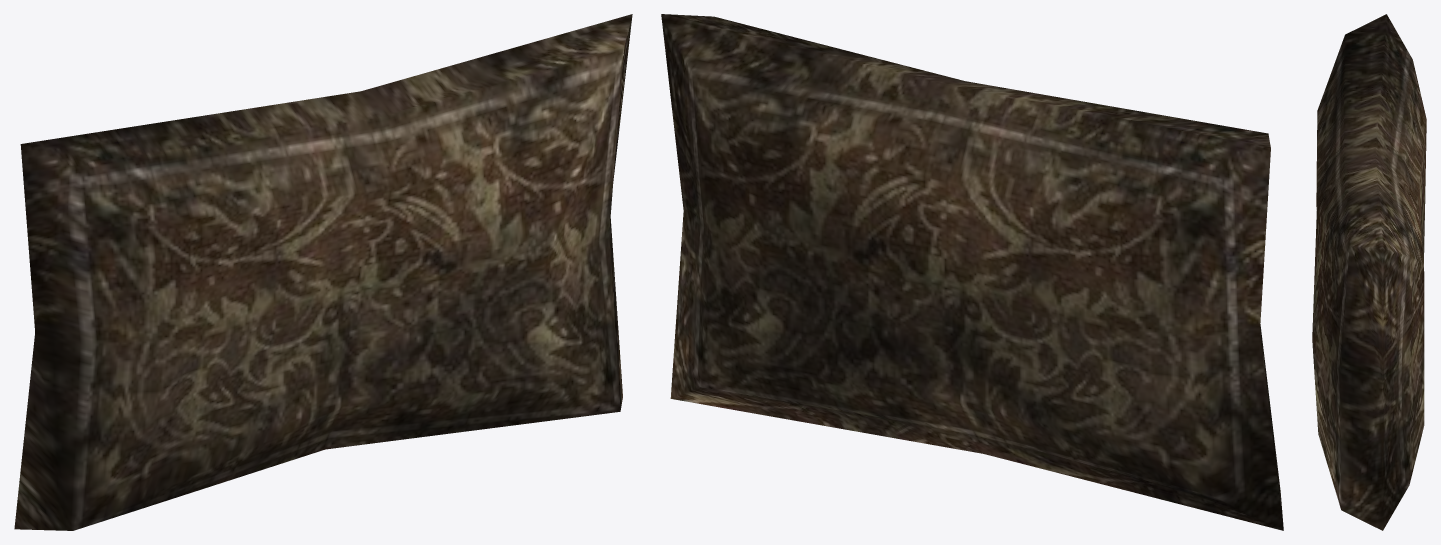
File: prop_pillow1.glb
3 views of the same model, side by side, from view 1: azimuth 30°, elevation 25°; view 2: azimuth 150°, elevation 25°; view 3: azimuth 270°, elevation 25° (orthographic). The views are drawn at different scales.
Bounding box in the file's own units: 31.07 × 19.06 × 6.65.
1 material, 1 textured.
